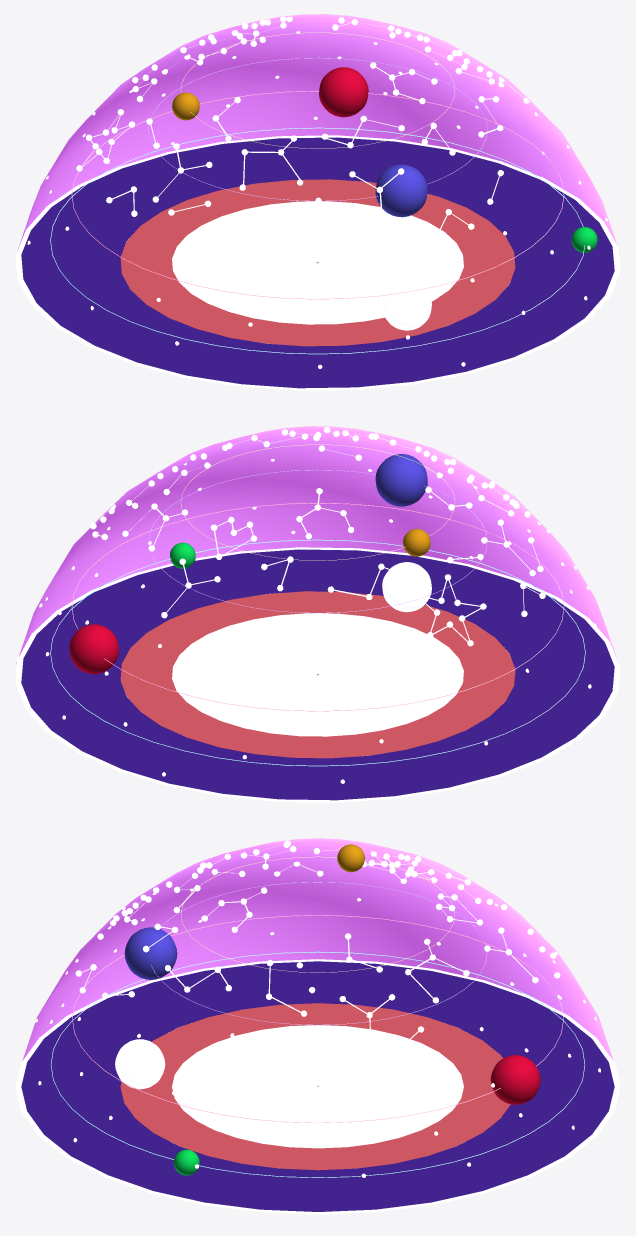
Rendered from planetarium_interior.glb.
The picture shows the model from 3 angles, top to bottom: view 1: azimuth 30°, elevation 25°; view 2: azimuth 150°, elevation 25°; view 3: azimuth 270°, elevation 25°; orthographic projection.
Visible parts, largest first — view 1: Ground, Walls, Stars, Orbits, Planet_2, Rolling_Star, Planet_3, Planet_1, Planet_4; view 2: Ground, Walls, Stars, Orbits, Planet_2, Planet_3, Rolling_Star, Planet_1, Planet_4; view 3: Ground, Walls, Stars, Orbits, Planet_2, Rolling_Star, Planet_3, Planet_1, Planet_4.
Part boxes in pixels (bbox=[...]): Ground: bbox=[15, 135, 620, 390]; Walls: bbox=[15, 14, 619, 257]; Stars: bbox=[27, 16, 608, 368]; Orbits: bbox=[50, 32, 584, 354]; Planet_2: bbox=[375, 164, 427, 217]; Rolling_Star: bbox=[382, 280, 431, 330]; Planet_3: bbox=[319, 67, 368, 117]; Planet_1: bbox=[172, 92, 199, 120]; Planet_4: bbox=[571, 227, 597, 252]; Ground: bbox=[15, 547, 620, 802]; Walls: bbox=[16, 426, 620, 669]; Stars: bbox=[24, 427, 611, 783]; Orbits: bbox=[50, 444, 585, 766]; Planet_2: bbox=[375, 454, 427, 506]; Planet_3: bbox=[69, 624, 118, 674]; Rolling_Star: bbox=[382, 562, 431, 612]; Planet_1: bbox=[403, 528, 430, 556]; Planet_4: bbox=[170, 542, 195, 568]; Ground: bbox=[15, 959, 620, 1214]; Walls: bbox=[22, 838, 613, 1060]; Stars: bbox=[18, 840, 617, 1177]; Orbits: bbox=[50, 856, 585, 1177]; Planet_2: bbox=[124, 927, 177, 979]; Rolling_Star: bbox=[115, 1039, 165, 1089]; Planet_3: bbox=[490, 1055, 540, 1104]; Planet_1: bbox=[337, 844, 364, 872]; Planet_4: bbox=[173, 1149, 199, 1175].
Size of what is drawn, in the model's own units: 252 by 103 by 252.
